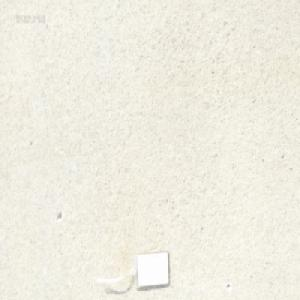LuggageTag: (93, 248, 170, 290)
